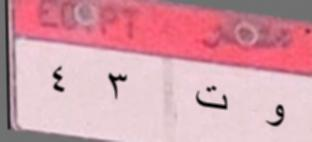3: (104, 71, 135, 106)
4: (46, 62, 70, 98)
taa: (194, 79, 230, 115)
waw: (260, 97, 289, 137)
